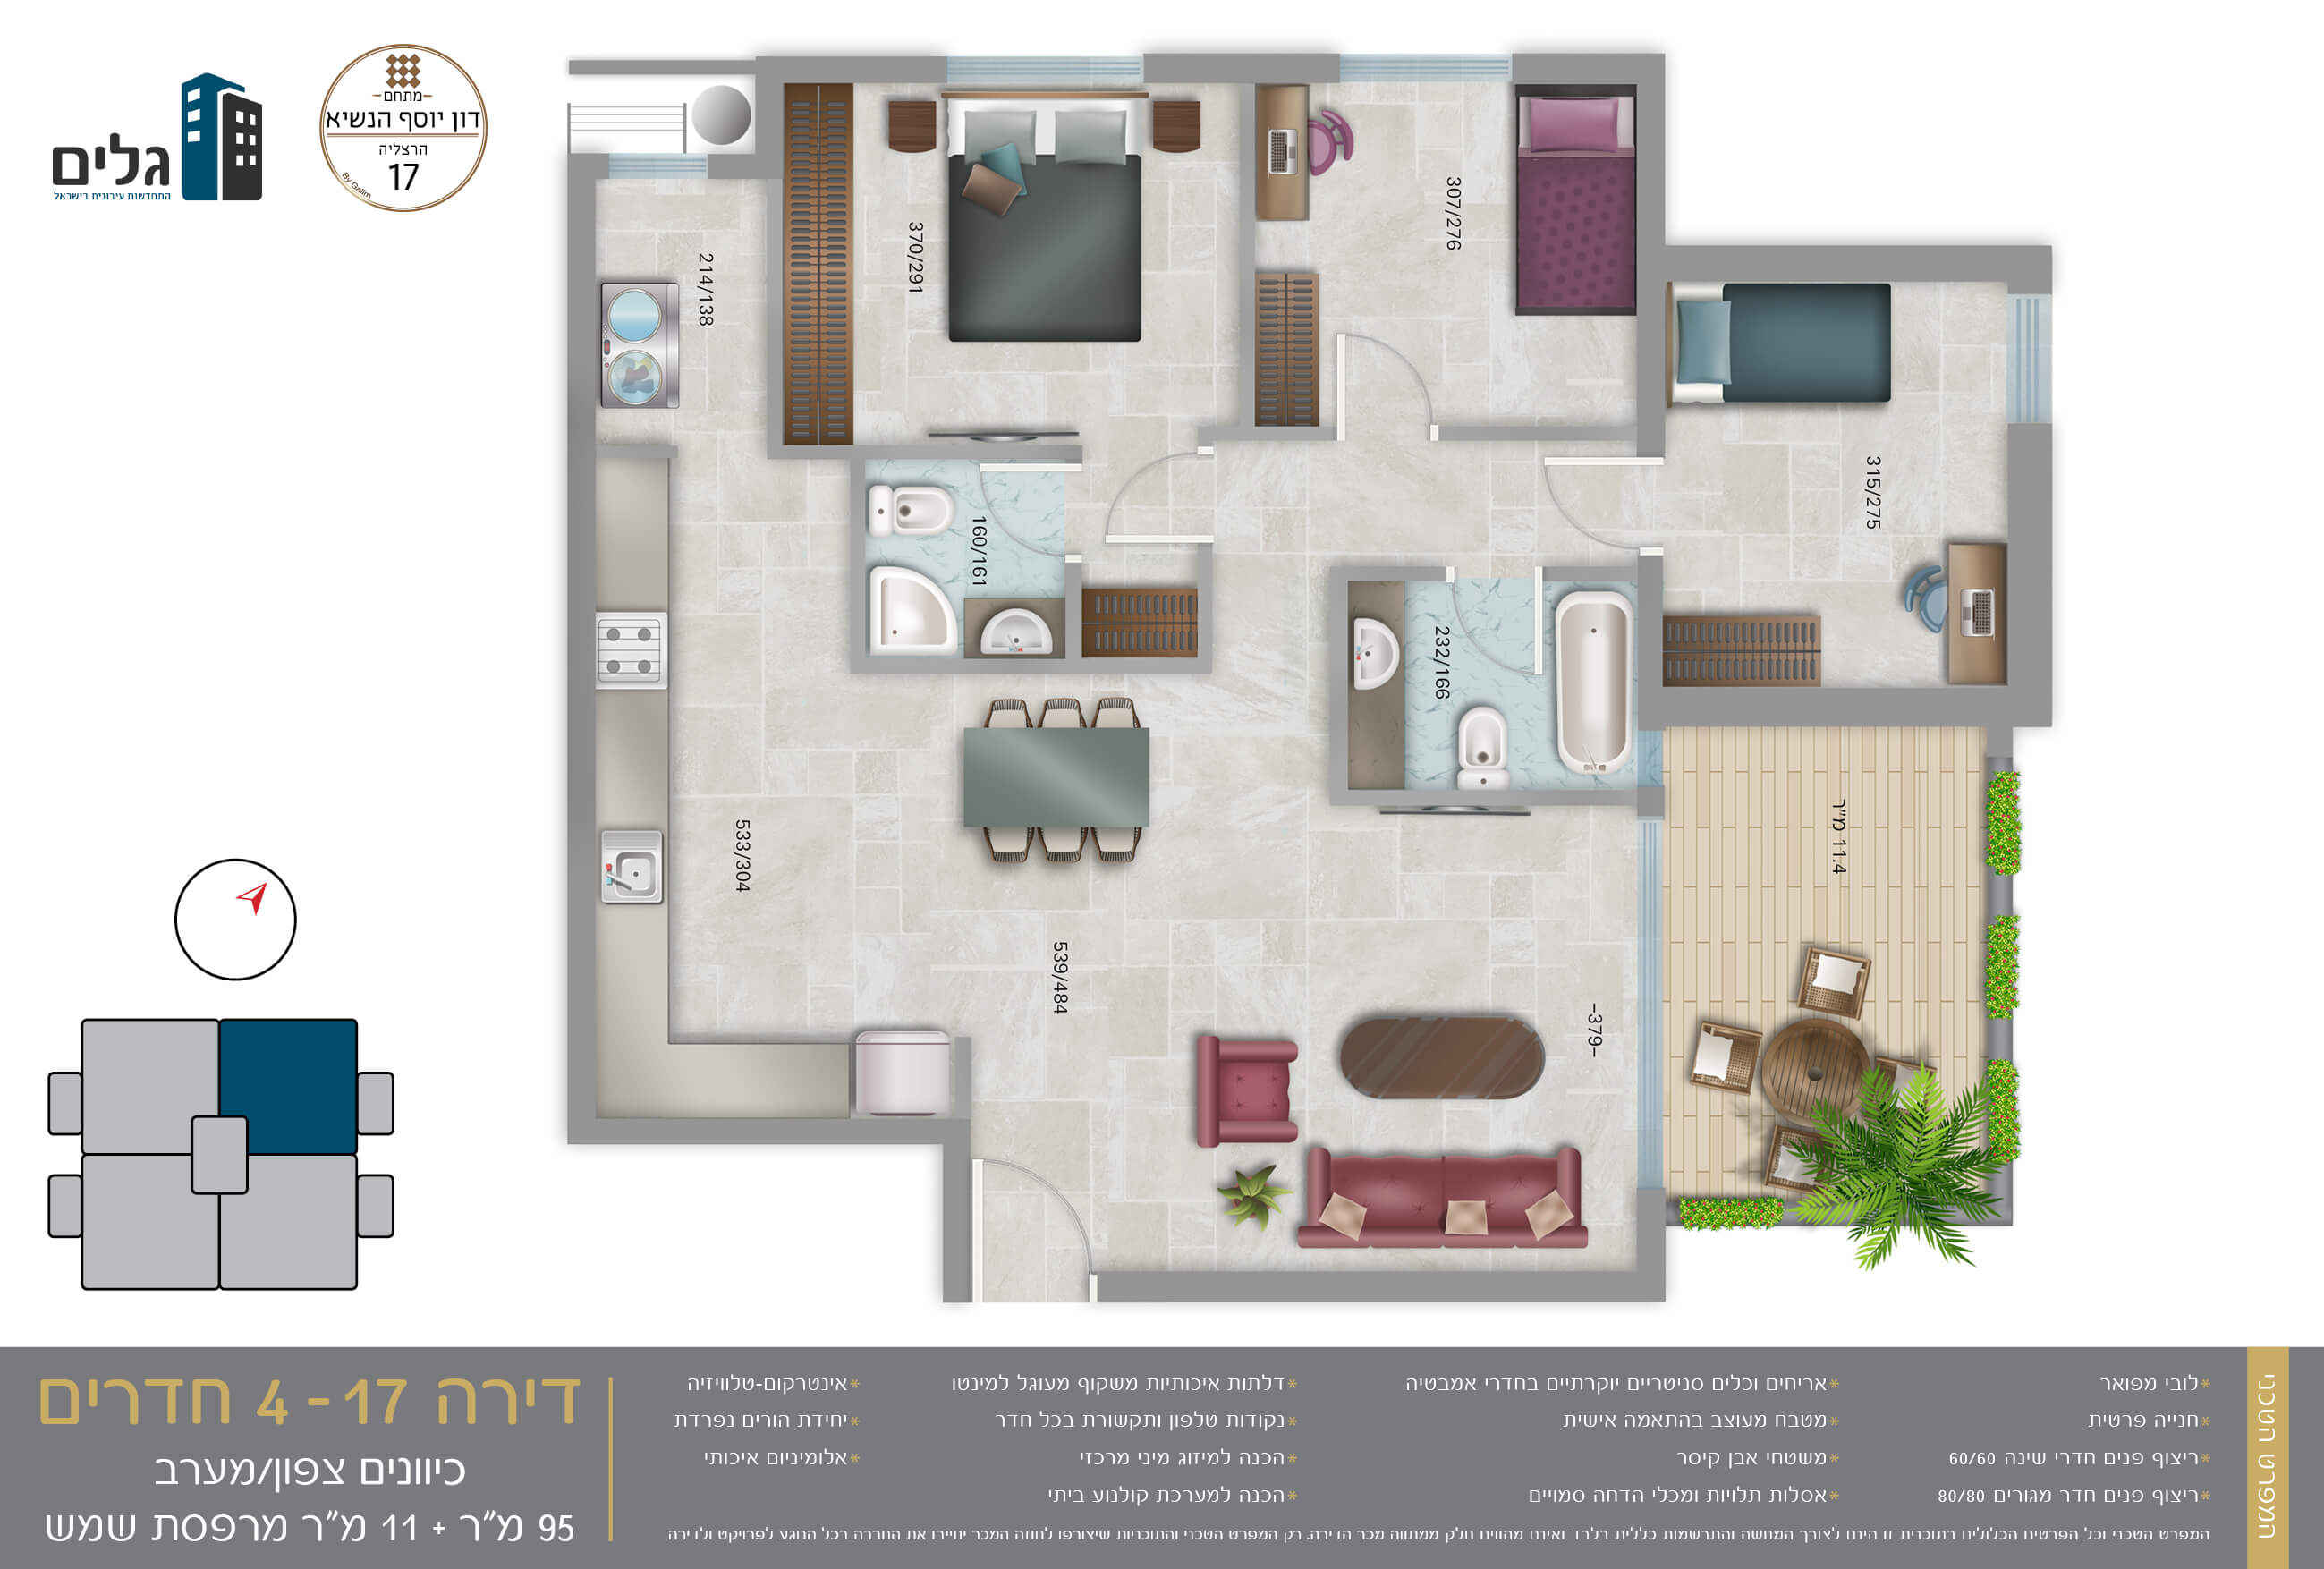door: (1324, 299, 1443, 408), (975, 1145, 1095, 1240), (1089, 459, 1194, 555), (1538, 440, 1622, 548), (975, 464, 1056, 560)
wall: (566, 149, 594, 1145), (1641, 63, 1676, 462), (1658, 245, 2042, 280), (1650, 686, 2060, 718), (1100, 1277, 1666, 1298), (560, 1122, 968, 1150), (944, 1145, 972, 1291), (1515, 53, 1658, 77), (757, 58, 778, 184)
window: (1636, 816, 1666, 1191), (947, 53, 1151, 84), (1340, 60, 1508, 84), (2016, 303, 2049, 410), (599, 154, 711, 182)
